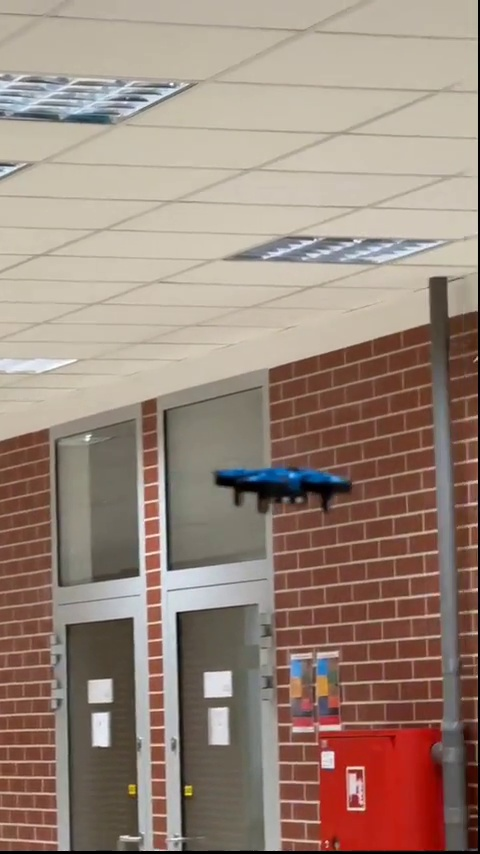drone: (208, 465, 355, 507)
